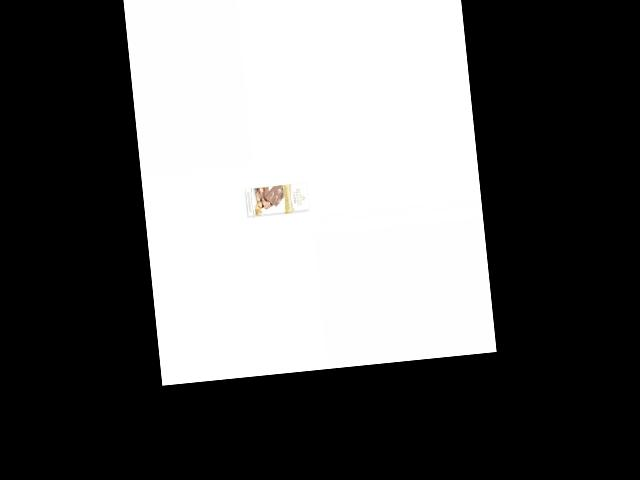chocolate: (244, 175, 313, 222)
